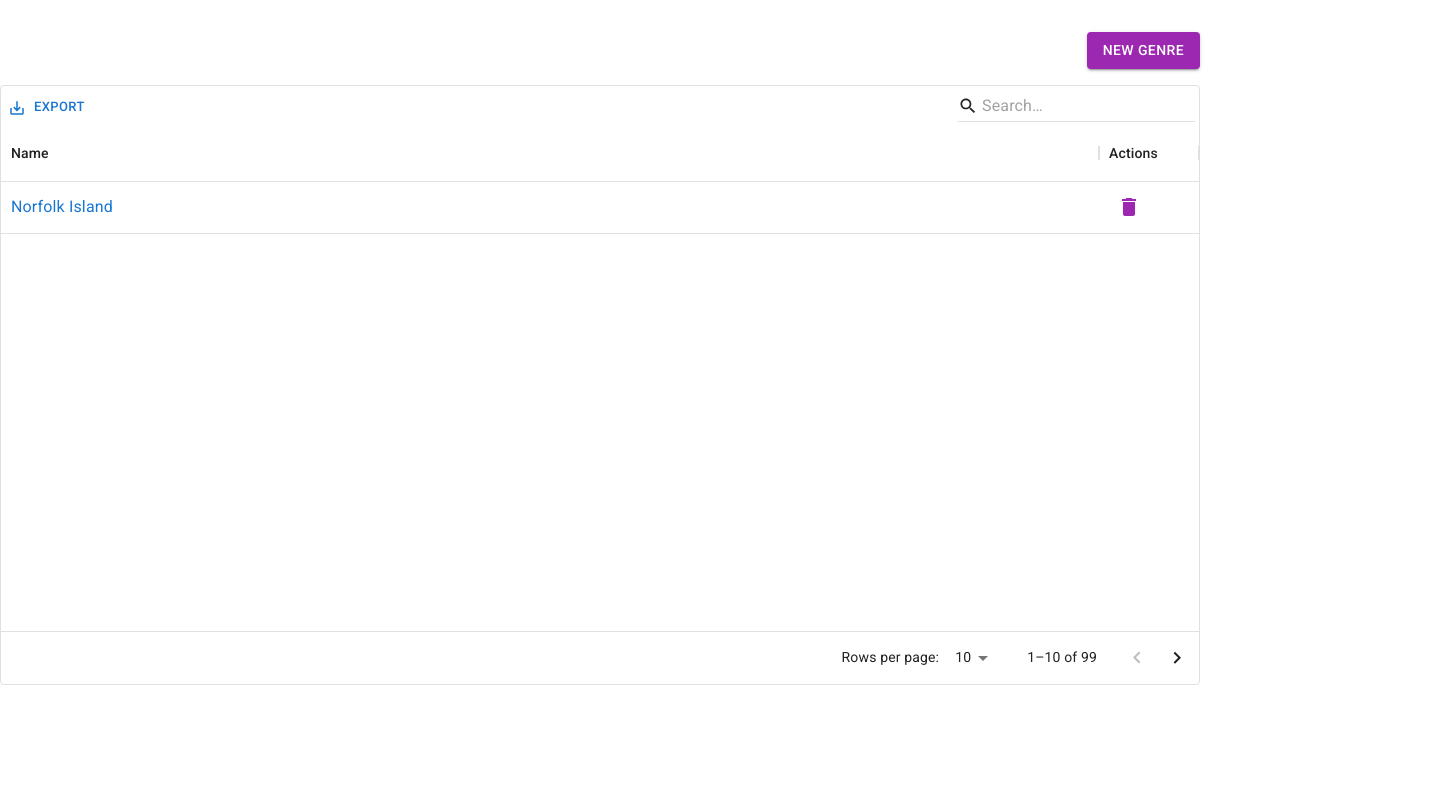
Scenario: GenreList › should be message Genre deleted successfully when delete
Expected: the text "Norfolk Island" is shown, [11,195,113,219]
Click the button with test id "delete-button" at (1129, 207), box [1109,187,1149,227]
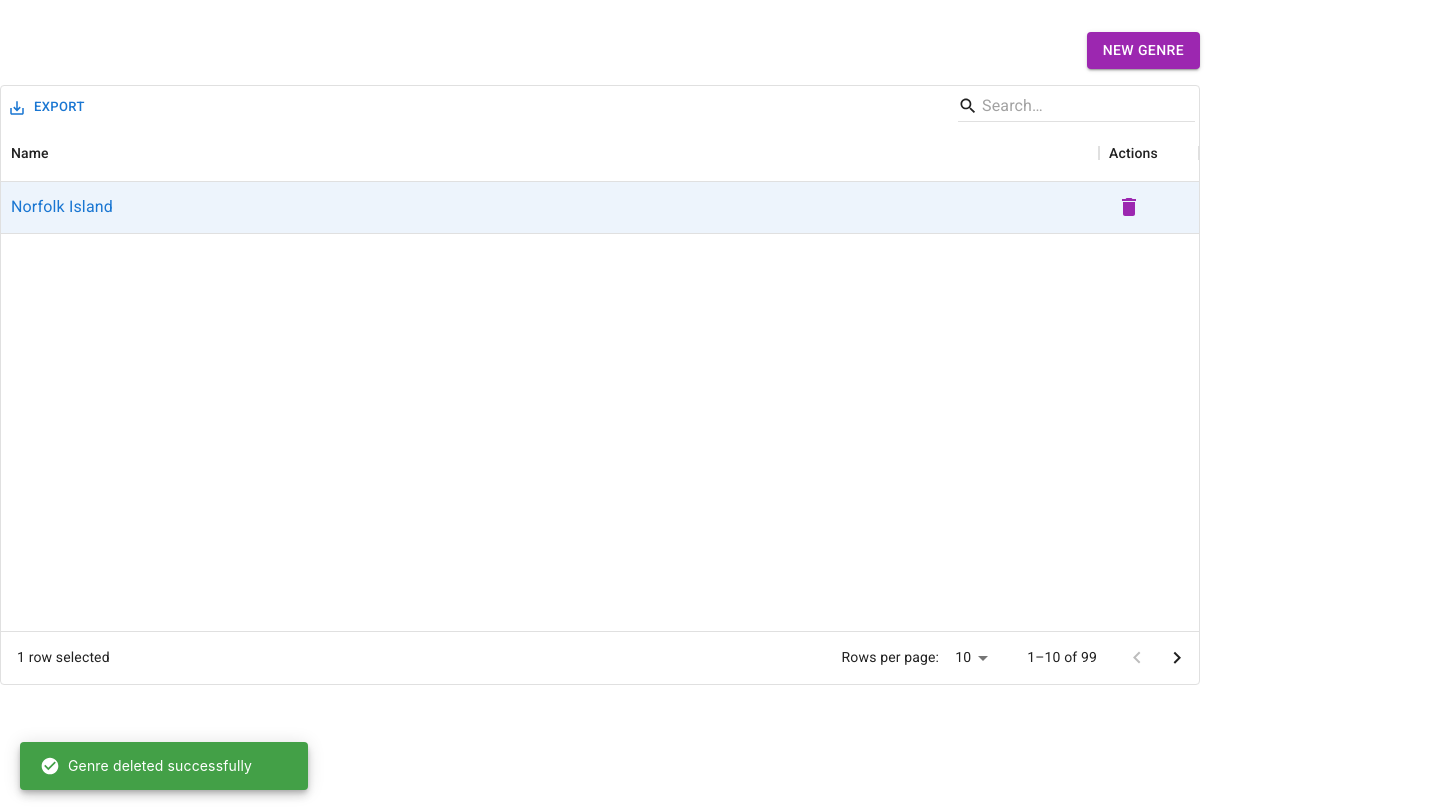
Expected: the text "Genre deleted successfully" is shown, [40,756,252,776]
